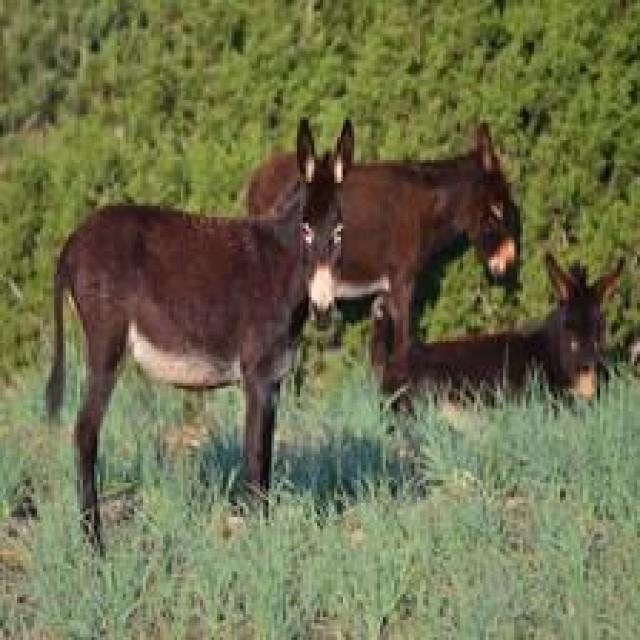Donkey: (43, 114, 354, 557), (243, 117, 523, 392), (368, 249, 626, 417)
